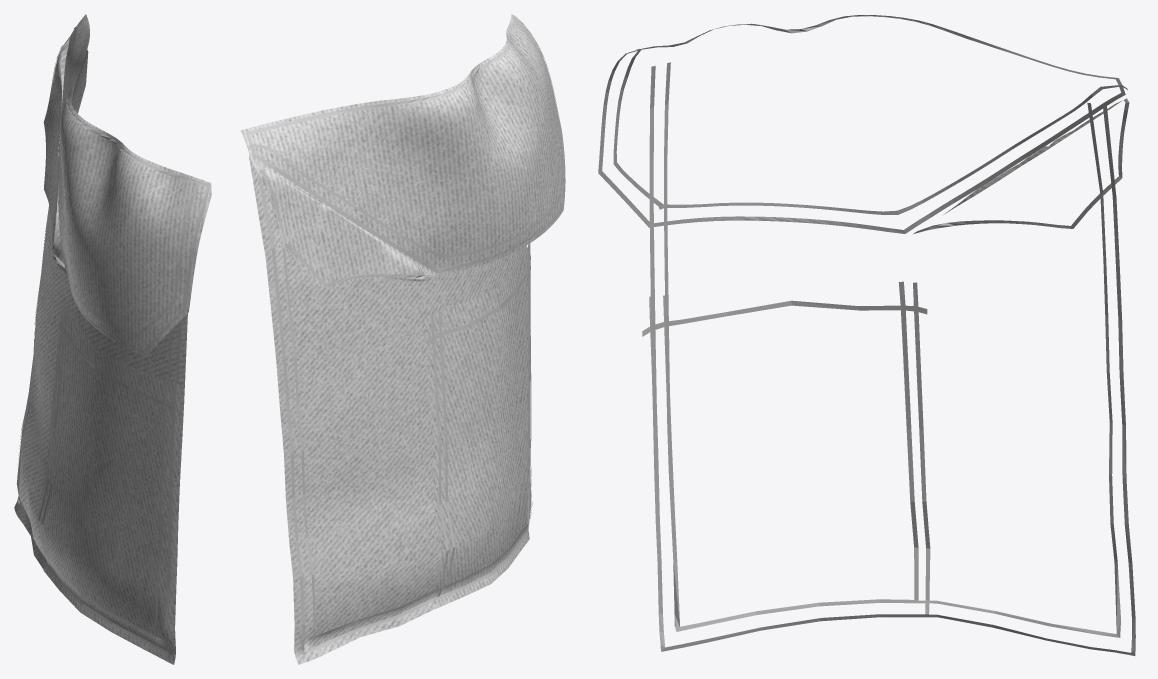
The model's file is Pocket_Left_V1.glb.
The picture shows the model from 3 angles, left to right: view 1: azimuth 30°, elevation 25°; view 2: azimuth 150°, elevation 25°; view 3: azimuth 270°, elevation 25°; orthographic projection. The views are drawn at different scales.
Visible parts, largest first — view 1: Pocket_Left_V11, Pocket_Left_V1_N1, Rope1; view 2: Pocket_Left_V11, Pocket_Left_V1_N1, Rope1; view 3: Rope1, Pocket_Left_V11.
Part boxes in pixels (x1=…): Pocket_Left_V11: x1=14, y1=14, x2=211, y2=664; Pocket_Left_V1_N1: x1=37, y1=301, x2=182, y2=664; Rope1: x1=16, y1=18, x2=210, y2=654; Pocket_Left_V11: x1=241, y1=14, x2=564, y2=664; Pocket_Left_V1_N1: x1=425, y1=243, x2=531, y2=608; Rope1: x1=245, y1=15, x2=565, y2=654; Rope1: x1=598, y1=15, x2=1135, y2=655; Pocket_Left_V11: x1=722, y1=23, x2=1122, y2=230.
Bounding box in the file's own units: 0.0804 × 0.2851 × 0.2203.
Materials: 3 (3 with a texture image).
